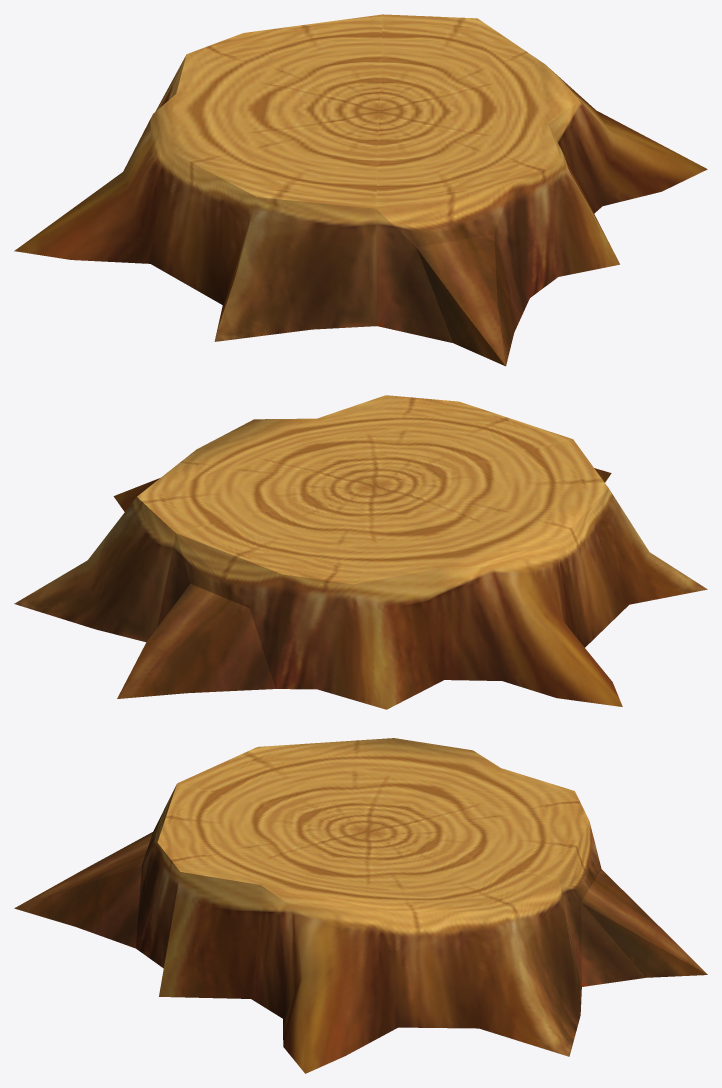
The model's file is Shuzhuan02.FBX.
The picture shows the model from 3 angles, top to bottom: view 1: azimuth 30°, elevation 25°; view 2: azimuth 150°, elevation 25°; view 3: azimuth 270°, elevation 25°; orthographic projection. The views are drawn at different scales.
Visible parts, largest first — view 1: Cylinder039; view 2: Cylinder039; view 3: Cylinder039.
Boxes of the visible parts, x1=… form: Cylinder039: x1=14, y1=14, x2=707, y2=366; Cylinder039: x1=14, y1=395, x2=707, y2=709; Cylinder039: x1=14, y1=738, x2=707, y2=1073.
Bounding box in the file's own units: 58.05 × 9.83 × 59.71.
